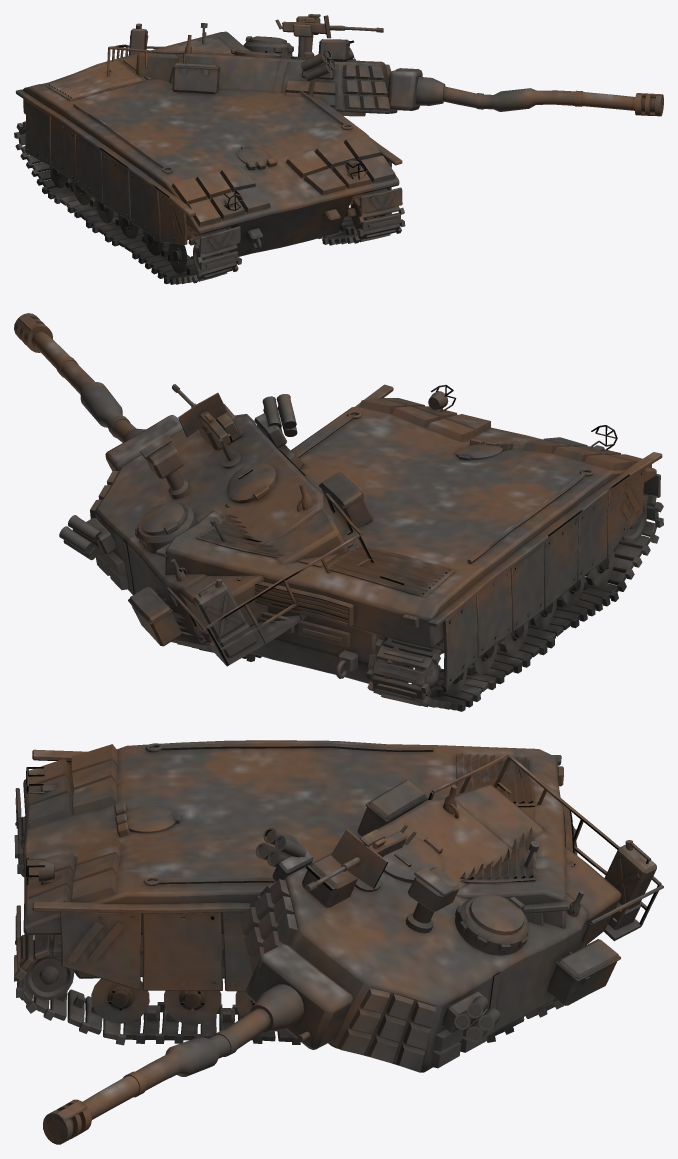
The model's file is Wreck_Tank.fbx.
3 views of the same model, one above another, from view 1: azimuth 30°, elevation 25°; view 2: azimuth 150°, elevation 25°; view 3: azimuth 270°, elevation 25° (orthographic). The views are drawn at different scales.
Parts seen in each view (by area): view 1: Wreck_Tank_Mesh; view 2: Wreck_Tank_Mesh; view 3: Wreck_Tank_Mesh.
Part boxes in pixels (x1,y1,x2,y2): Wreck_Tank_Mesh: (14,14,663,284); Wreck_Tank_Mesh: (14,313,663,711); Wreck_Tank_Mesh: (14,740,663,1144).
Size of the model in its own units: 5.08 by 1.57 by 3.85.
